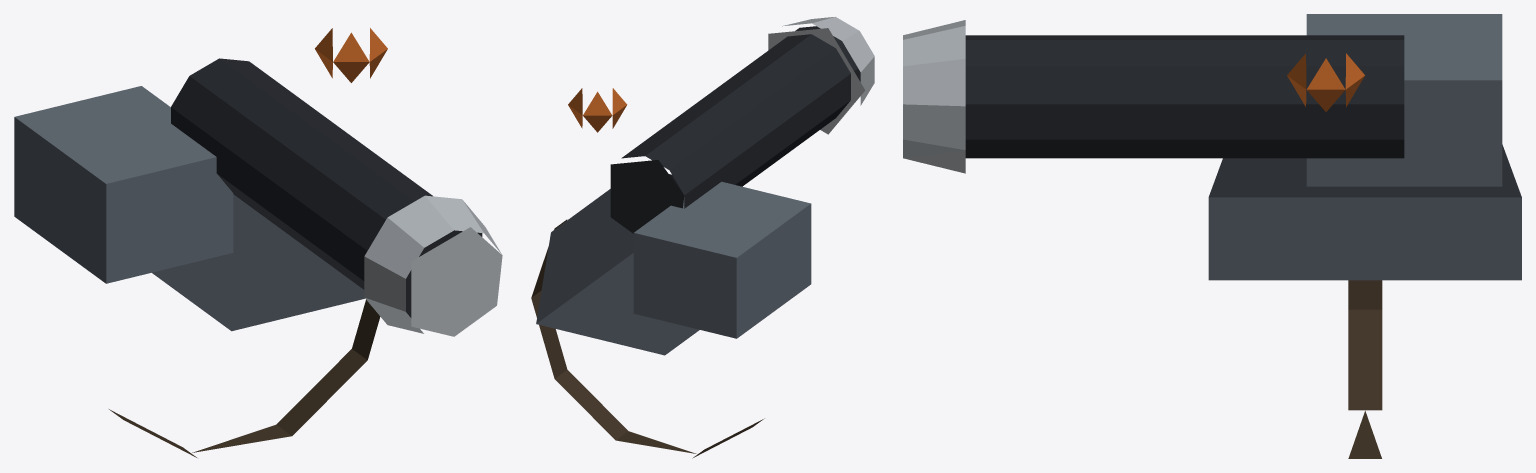
File: shoulder-cannon.lod.glb
3 renders of one model, left to right at view 1: azimuth 30°, elevation 25°; view 2: azimuth 150°, elevation 25°; view 3: azimuth 270°, elevation 25°, orthographic. The views are drawn at different scales.
Visible parts, largest first — view 1: m; view 2: m; view 3: m.
Boxes of the visible parts, left/top/right/bottom form: m: left=14, top=28, right=502, bottom=457; m: left=531, top=16, right=874, bottom=458; m: left=903, top=14, right=1521, bottom=458.
Size of the model in its own units: 0.1219 by 0.1536 by 0.1975.
